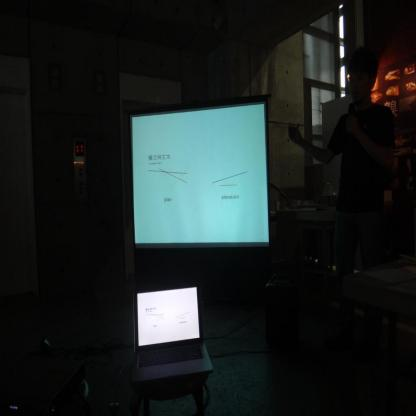board: (132, 281, 214, 384)
